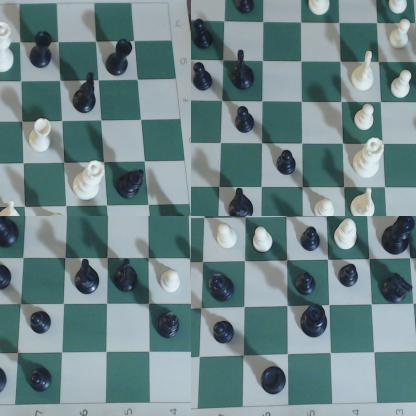black-bishop: (118, 166, 147, 200), (116, 258, 141, 295), (158, 308, 184, 342), (209, 271, 235, 305), (1, 258, 16, 292)
black-king: (386, 217, 415, 259)
black-knight: (75, 253, 105, 300), (70, 73, 101, 118), (380, 270, 416, 306), (232, 48, 257, 93), (224, 187, 256, 216)
black-pawn: (192, 61, 218, 99), (193, 18, 217, 52), (275, 142, 297, 178), (213, 321, 239, 351), (234, 105, 257, 136), (28, 366, 54, 393), (31, 308, 54, 336), (338, 264, 361, 292), (300, 227, 323, 254), (298, 267, 318, 296), (231, 1, 259, 18)
black-queen: (300, 305, 329, 340), (1, 217, 22, 251)
black-rook: (106, 39, 140, 86), (29, 33, 57, 73), (256, 364, 288, 398), (1, 366, 9, 398)
white-bishop: (331, 217, 361, 257), (306, 1, 336, 18), (387, 1, 412, 16)
white-knight: (350, 48, 377, 92), (350, 187, 379, 216), (1, 203, 27, 216)
white-pawn: (255, 223, 280, 260), (389, 19, 414, 50), (213, 224, 242, 250), (391, 69, 415, 100), (353, 104, 378, 132), (160, 272, 184, 296), (316, 196, 340, 216)
white-queen: (70, 158, 109, 205), (350, 138, 388, 181), (1, 24, 16, 75)
white-rook: (28, 121, 51, 157)
